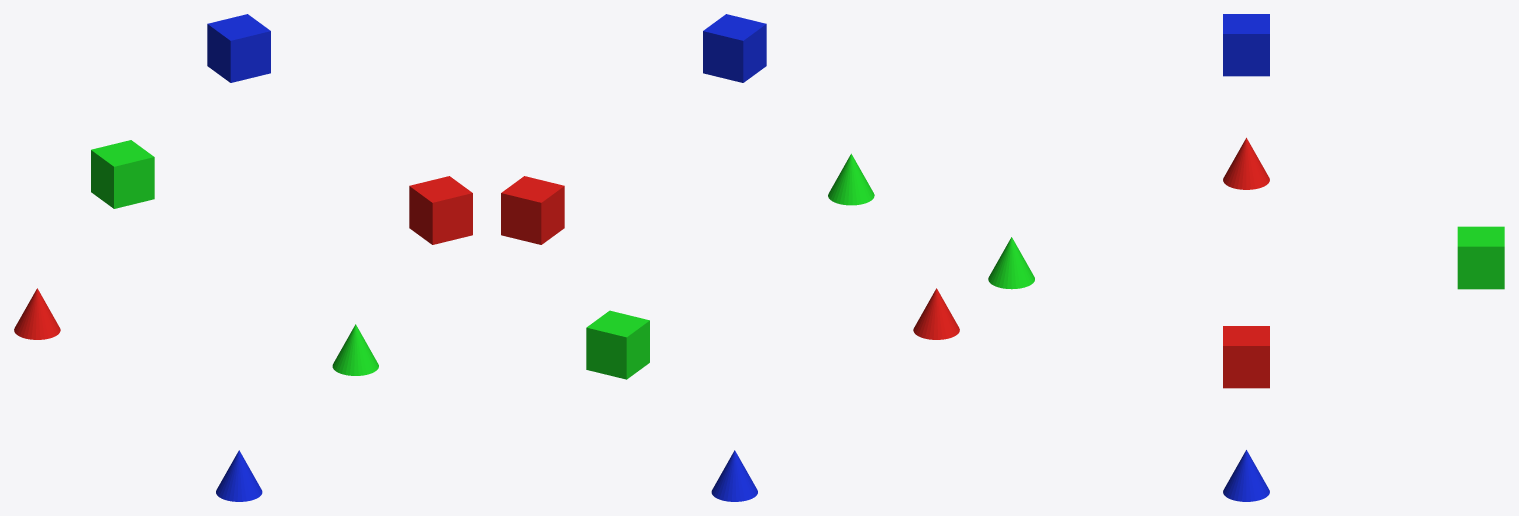
Rendered from axis_coloured_blocks_fourpi.gltf.
3 views of the same model, side by side, from view 1: azimuth 30°, elevation 25°; view 2: azimuth 150°, elevation 25°; view 3: azimuth 270°, elevation 25° (orthographic).
Parts seen in each view (by area): view 1: CubeX, CubeY, Cube, Cone, Cone.002, Cone.001; view 2: CubeX, CubeY, Cube, Cone.001, Cone, Cone.002; view 3: CubeY, CubeX, Cube, Cone, Cone.002, Cone.001.
Part boxes in pixels (x1,y1,x2,y2): CubeX: (409,176,472,244); CubeY: (91,140,154,208); Cube: (207,14,270,82); Cone: (14,288,60,339); Cone.002: (216,450,262,501); Cone.001: (332,324,378,375); CubeX: (501,176,564,244); CubeY: (586,310,649,379); Cube: (703,14,766,82); Cone.001: (828,153,874,205); Cone: (913,288,959,339); Cone.002: (711,450,757,501); CubeY: (1457,226,1504,289); CubeX: (1223,326,1269,388); Cube: (1223,14,1269,76); Cone: (1223,137,1269,189); Cone.002: (1223,450,1269,501); Cone.001: (988,237,1034,289).
Bounding box in the file's own units: 22 × 22 × 22.
